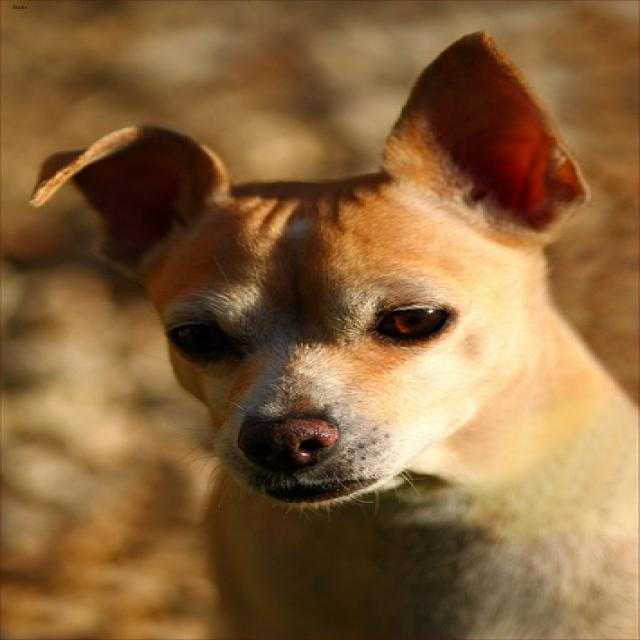dog-chihuahua: (16, 23, 636, 637)
